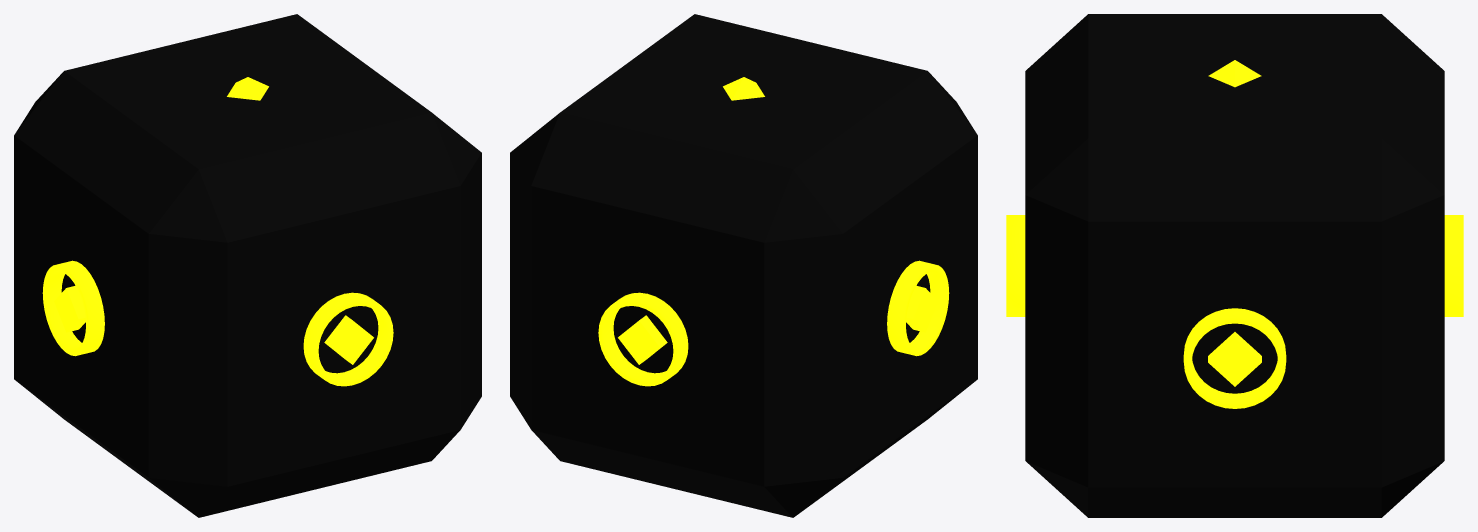
Rendered from mdl_zesty_powerlinkon.gltf.
3 views of the same model, side by side, from view 1: azimuth 30°, elevation 25°; view 2: azimuth 150°, elevation 25°; view 3: azimuth 270°, elevation 25° (orthographic). The views are drawn at different scales.
Visible parts, largest first — view 1: mdl_zesty_powerlinkon; view 2: mdl_zesty_powerlinkon; view 3: mdl_zesty_powerlinkon.
Boxes of the visible parts, x1=… form: mdl_zesty_powerlinkon: x1=14, y1=14, x2=481, y2=517; mdl_zesty_powerlinkon: x1=510, y1=14, x2=977, y2=517; mdl_zesty_powerlinkon: x1=1006, y1=14, x2=1463, y2=517.
Size of the model in its own units: 0.1091 by 0.1043 by 0.1091.
